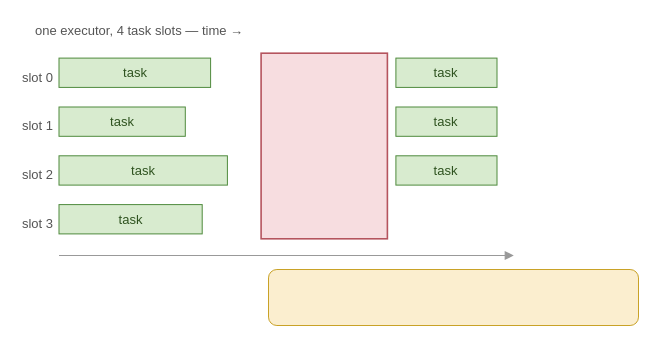
Image size: 657x344. Some labels were removed from this diagram. The box of each missing label's shape, as (x1, y1, x2, y2) in pixels:
heartbeat timeout driver marks the executor lost; its work re-runs elsewhere: (268, 268, 638, 326)
stop-the-world GC pause every slot frozen: (260, 52, 388, 239)
